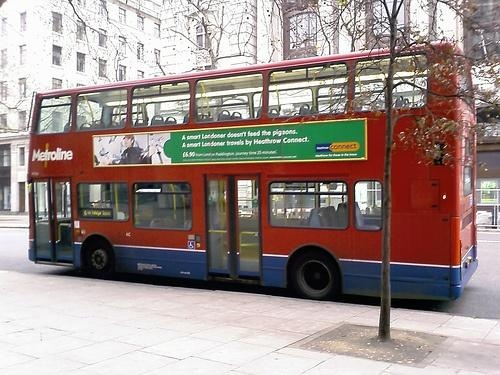bus: (26, 43, 478, 305)
